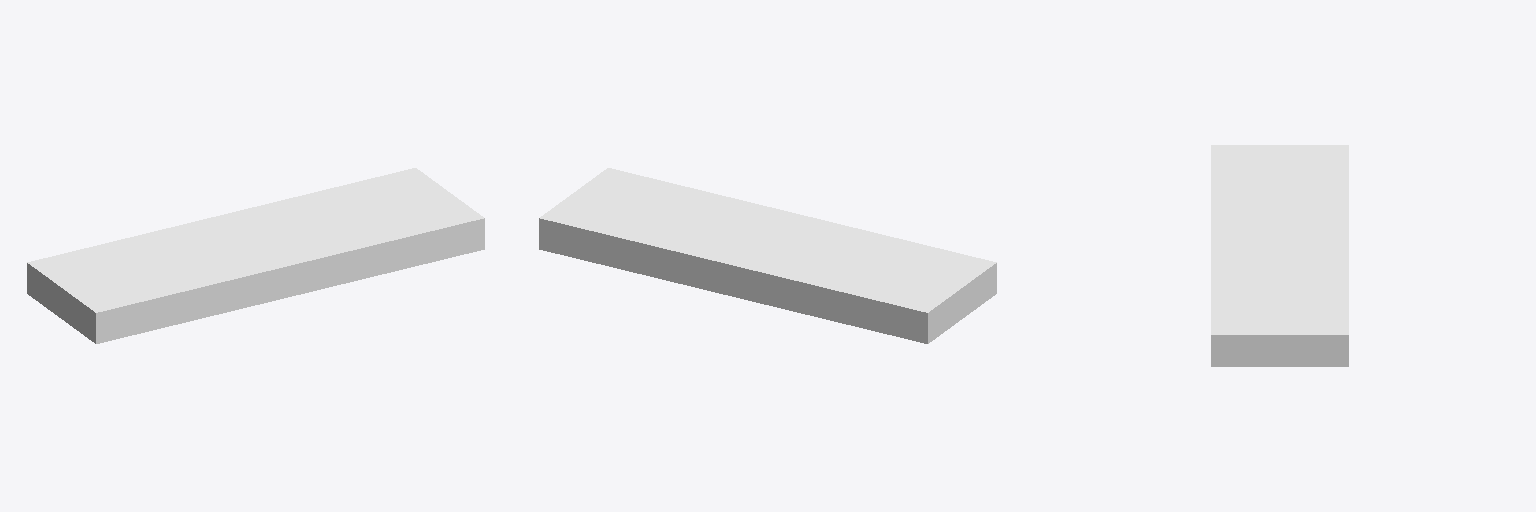
File: Decor-11.obj
3 views of the same model, side by side, from view 1: azimuth 30°, elevation 25°; view 2: azimuth 150°, elevation 25°; view 3: azimuth 270°, elevation 25° (orthographic).
Parts seen in each view (by area): view 1: object 1; view 2: object 1; view 3: object 1.
Boxes of the visible parts, x1,y1,x2,y2 form: object 1: [27, 168, 484, 343]; object 1: [539, 168, 996, 343]; object 1: [1211, 145, 1348, 366].
Size of the model in its own units: 1.3 by 0.1 by 0.4.